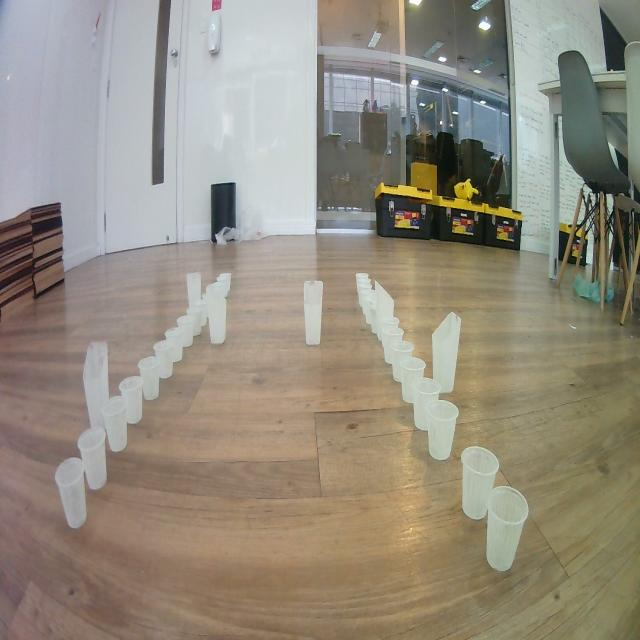erva_daninha: (431, 311, 462, 395), (82, 340, 110, 432), (303, 280, 324, 346), (207, 295, 227, 346), (374, 278, 395, 326), (186, 272, 202, 308)
planta: (486, 486, 529, 572), (460, 446, 500, 522), (54, 458, 88, 530), (426, 399, 460, 462), (77, 426, 108, 491), (411, 377, 442, 432), (102, 396, 129, 453), (398, 356, 426, 404), (119, 376, 144, 426), (391, 340, 415, 384), (138, 357, 160, 402), (153, 341, 174, 380), (382, 328, 404, 364), (378, 316, 400, 350), (165, 328, 183, 362), (177, 315, 194, 348), (186, 306, 202, 336), (194, 298, 208, 327), (359, 283, 375, 307), (371, 307, 385, 333), (362, 291, 376, 315), (216, 272, 232, 292), (356, 276, 372, 296), (365, 299, 377, 325), (213, 280, 227, 298), (355, 272, 368, 287)
